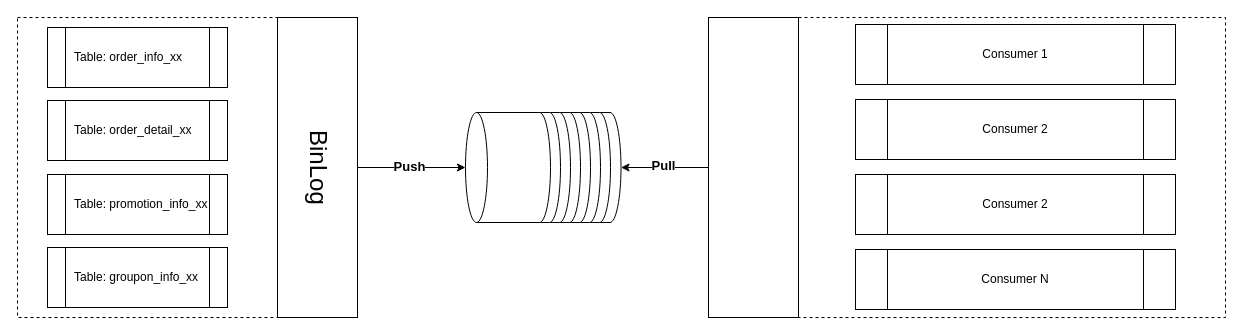
Some shapes in this 1243 by 335 pixel diagram are drawn without their labels. Here are the shapes that lost their labels. From the top down, the centre of each, then its label:
At point (507, 167): "Kafka".
At point (753, 167): "Consumer".
